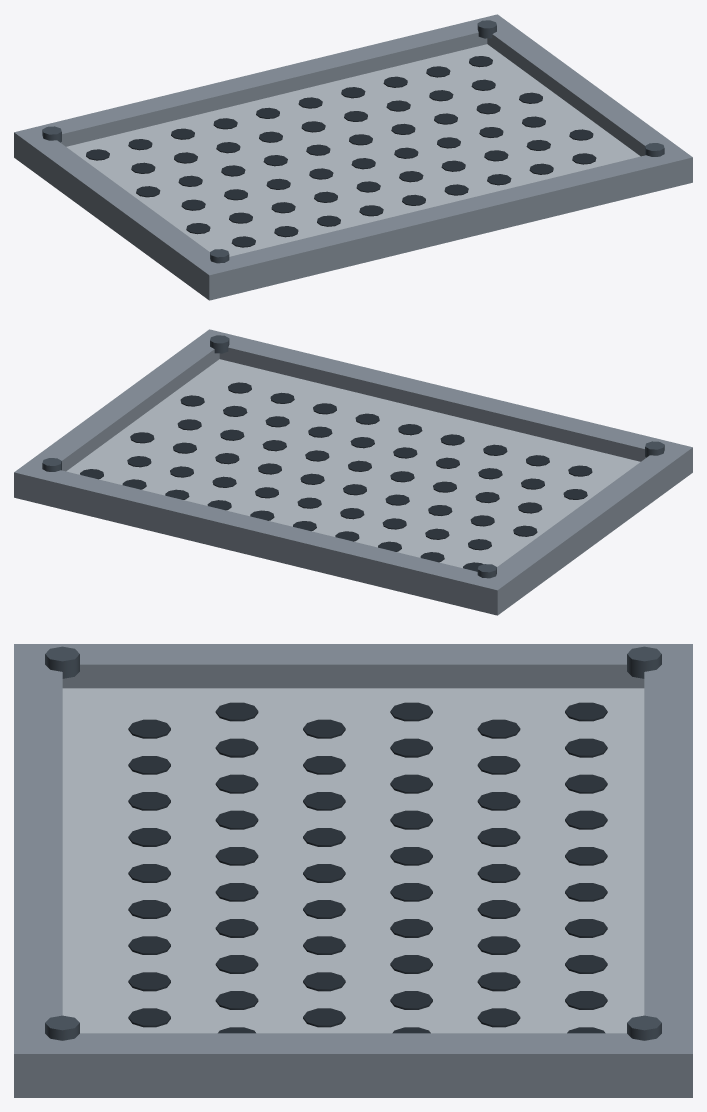
Rendered from sieve-mesh.glb.
The picture shows the model from 3 angles, top to bottom: view 1: azimuth 30°, elevation 25°; view 2: azimuth 150°, elevation 25°; view 3: azimuth 270°, elevation 25°; orthographic projection. The views are drawn at different scales.
Size of the model in its own units: 1 by 0.062 by 0.7.
